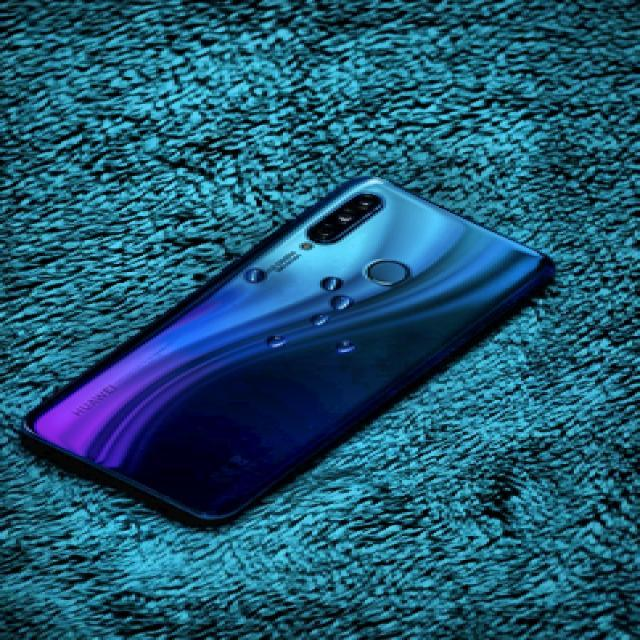Phone: (29, 176, 553, 526)
